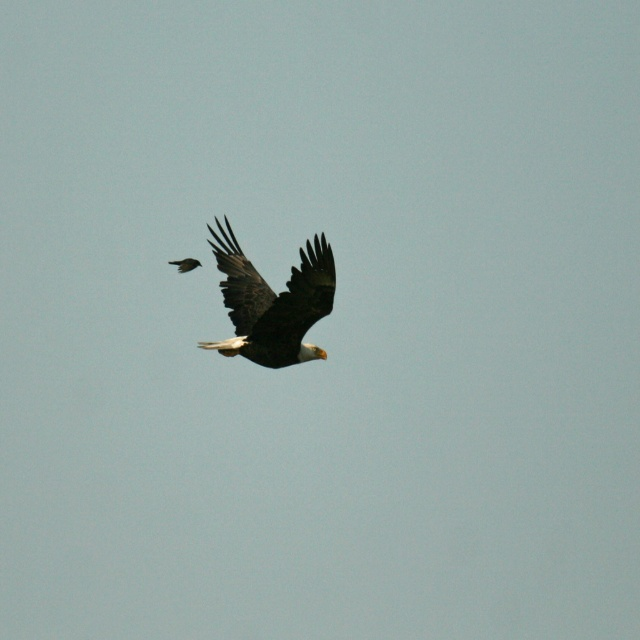Eagle: (196, 214, 335, 370)
